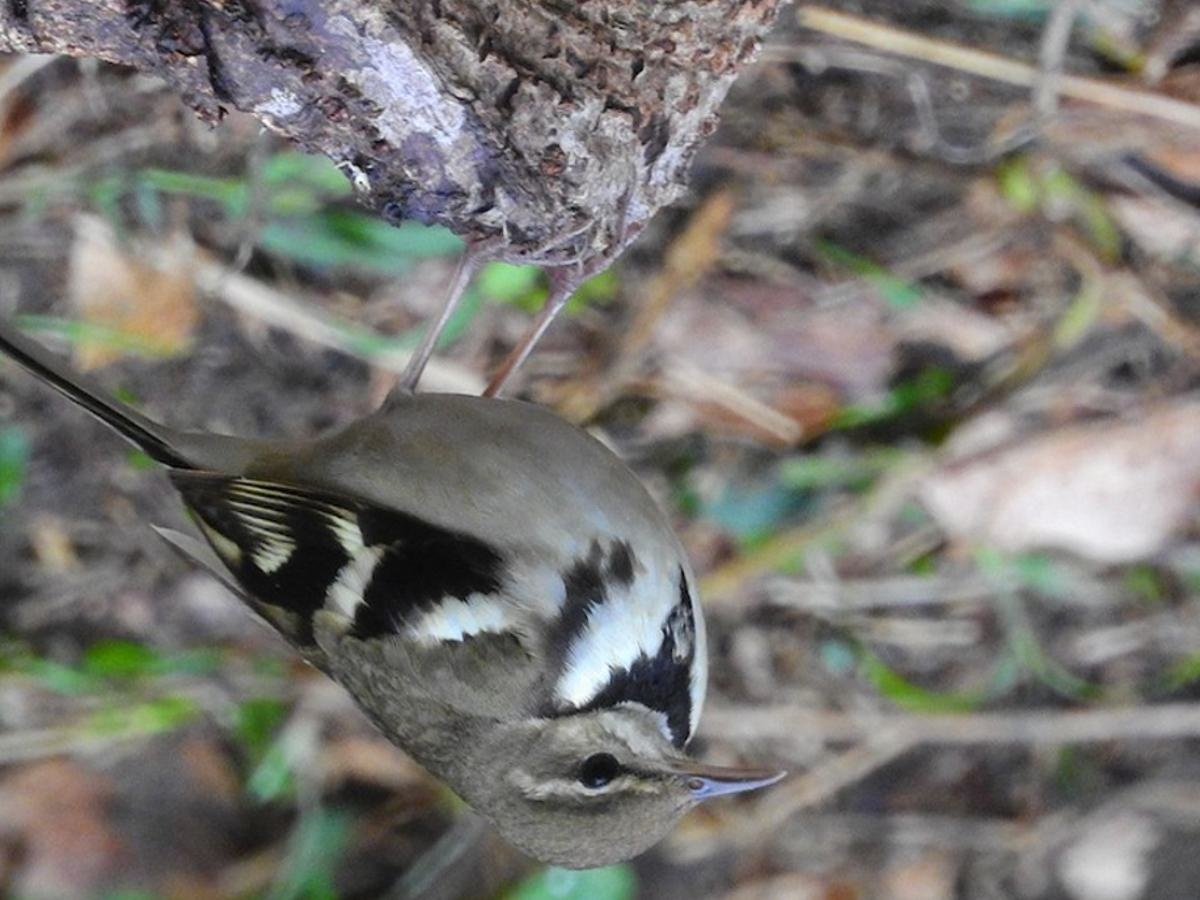wagtail: (76, 223, 806, 871)
